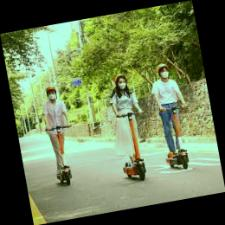helmet: (146, 60, 198, 173), (103, 71, 152, 184), (34, 83, 80, 190)
